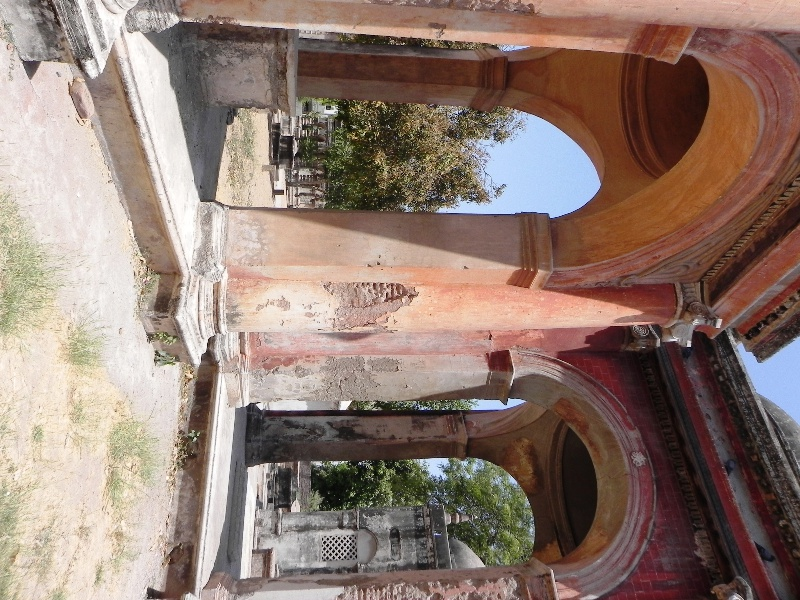Exposed Bricks: (354, 280, 412, 298)
Spalling: (310, 351, 402, 397)
